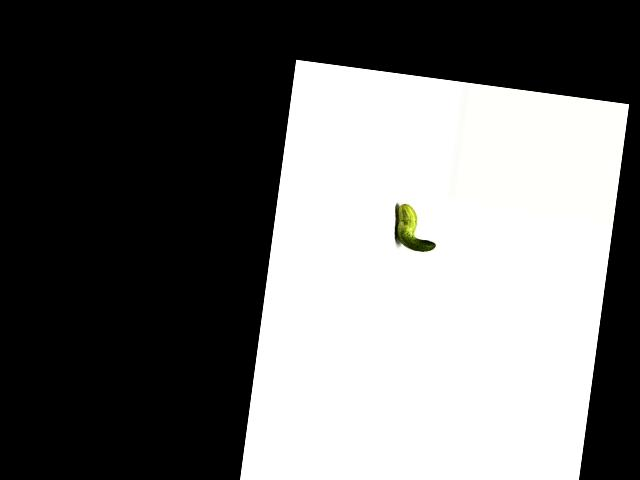cucumber: (392, 203, 440, 253)
